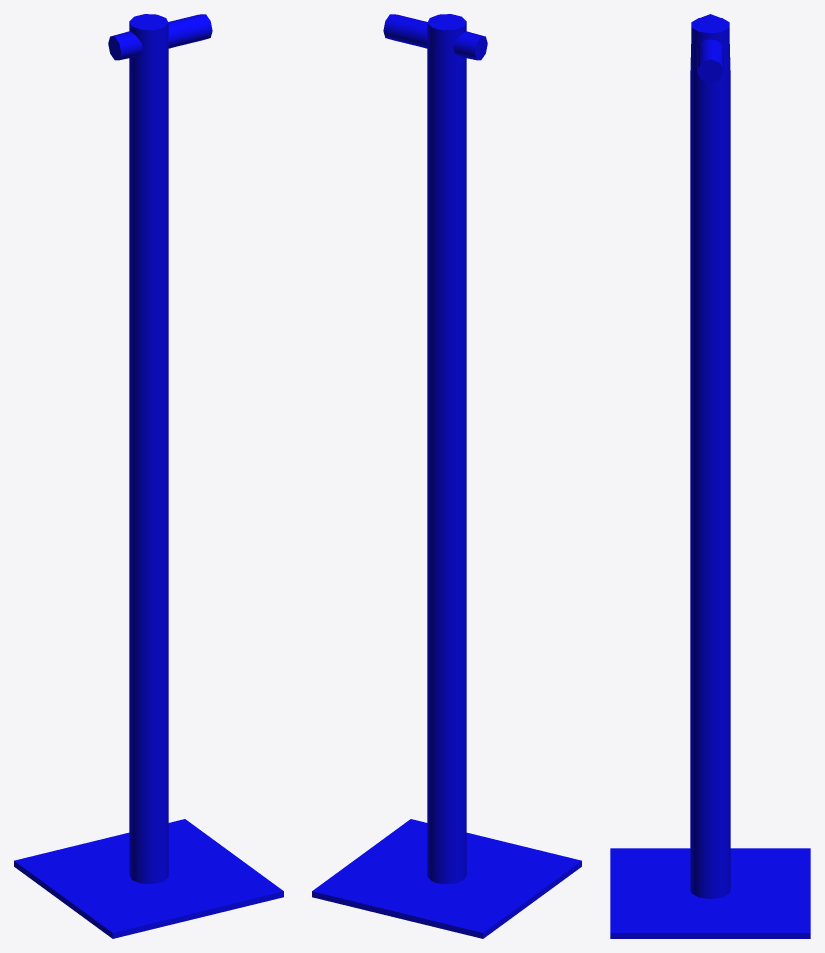
The model's file is tower.obj.
The picture shows the model from 3 angles, left to right: view 1: azimuth 30°, elevation 25°; view 2: azimuth 150°, elevation 25°; view 3: azimuth 270°, elevation 25°; orthographic projection.
Visible parts, largest first — view 1: 1; view 2: 1; view 3: 1.
Boxes of the visible parts, bbox=[...] form: 1: bbox=[14, 14, 283, 938]; 1: bbox=[312, 14, 581, 938]; 1: bbox=[610, 14, 810, 938].
Bounding box in the file's own units: 150 × 720 × 150.
